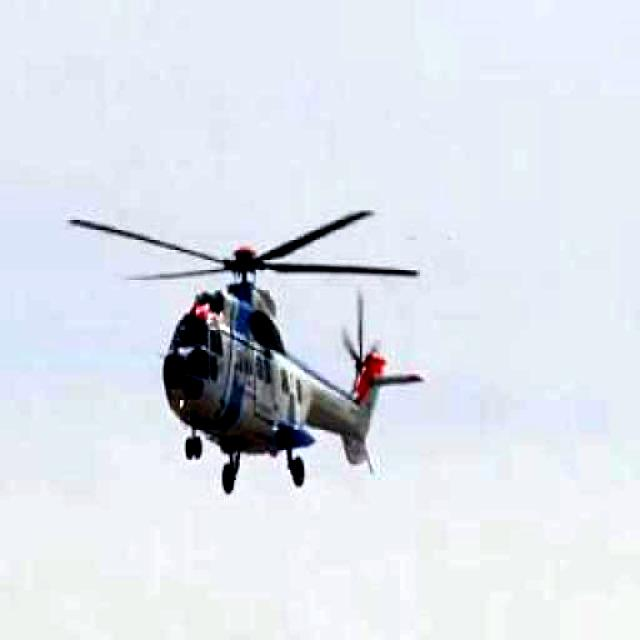drone: (31, 171, 468, 511)
